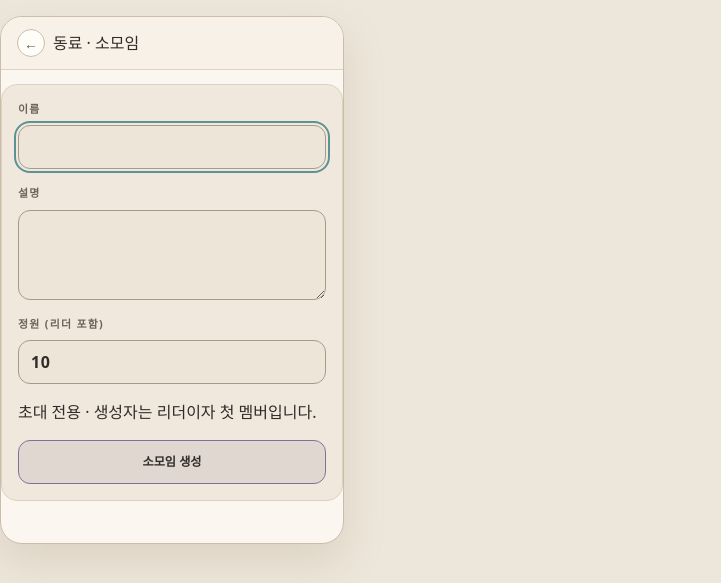
it: creates an invitation-only role party without a role event and opens its member detail
The width and height of the screenshot is (721, 583).
Type "동료 모임" into the field labelled "이름" at (172,147), box [18, 125, 326, 169]
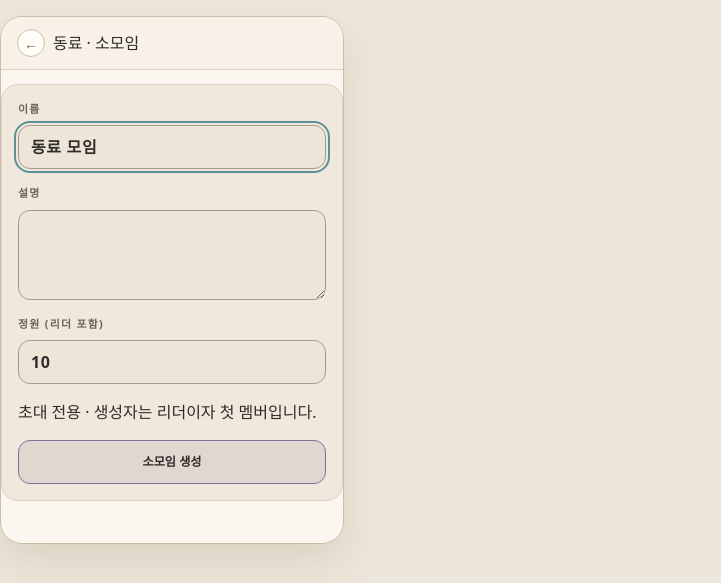
Type "함께 공부" into the text box labelled "설명" at (172,255), box [18, 210, 326, 300]
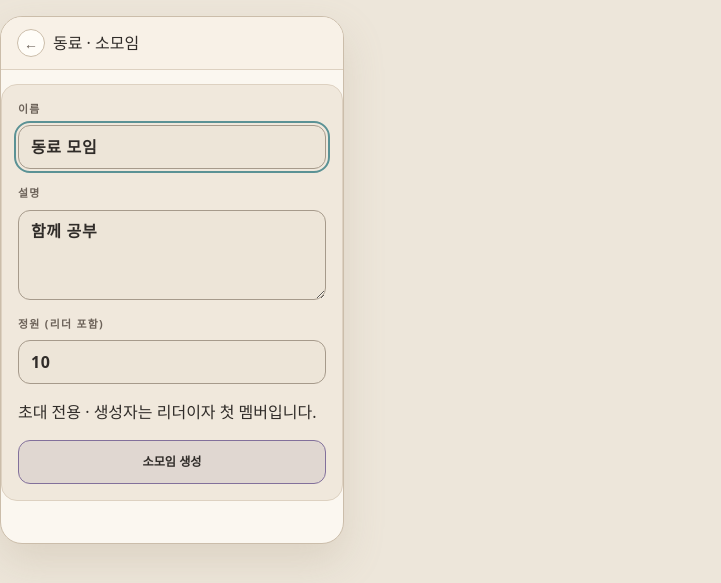
Replace the text in the number field labelled "정원 (리더 포함)" with "5" at (172,362), box [18, 340, 326, 384]
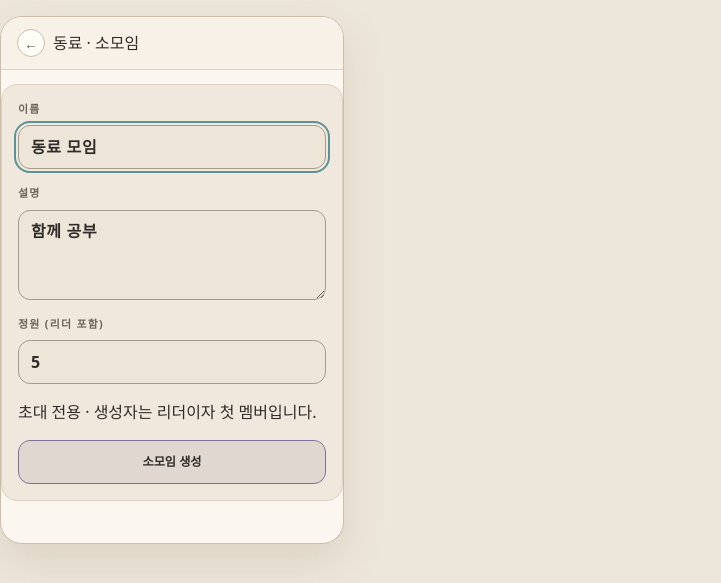
Click the button "소모임 생성" at (172,462), box [18, 440, 326, 484]
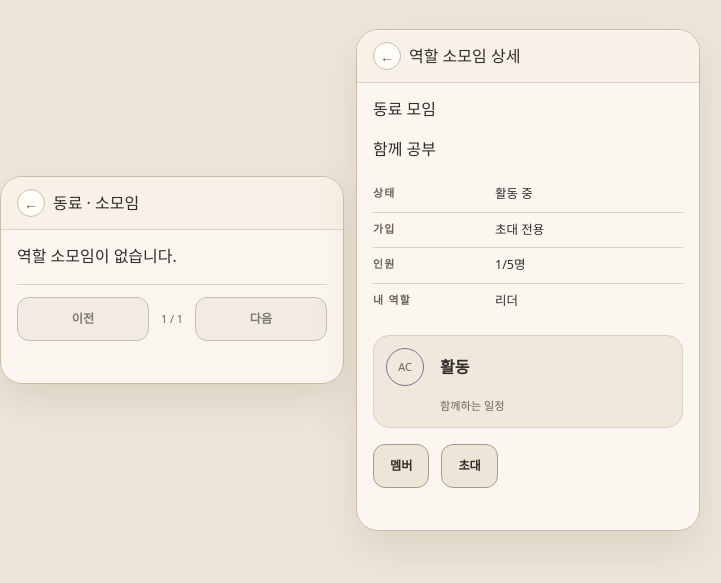
Expected: the text "초대 전용" is shown, [495, 221, 544, 238]
Expected: the text "1/5명" is shown, [495, 257, 525, 274]
